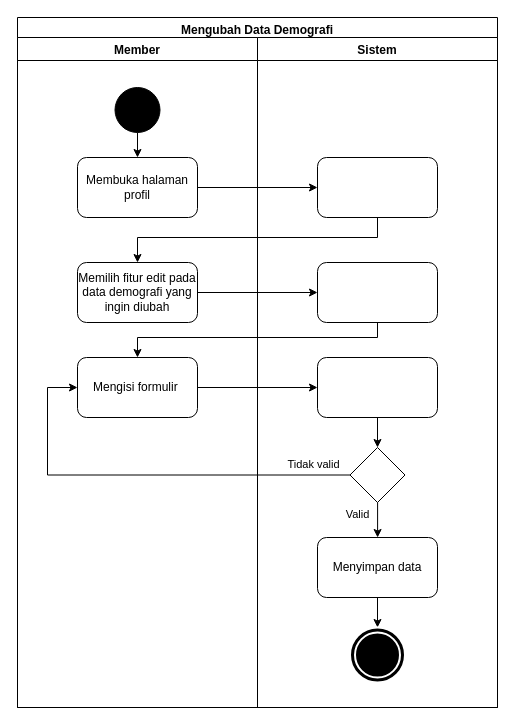
Some shapes in this 515 by 725 pixel diagram are drawn without their labels. Each missing label, with the centre of its shape:
Melakukan validasi data: (377,387)
Memunculkan dialog formulir pngubahan data demografi: (377,292)
Menampilkan halaman profil: (377,187)
